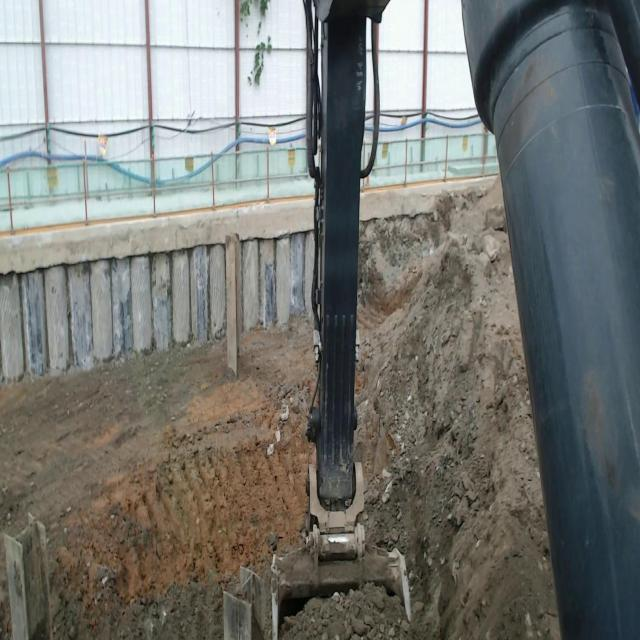white-sand: (281, 181, 559, 640), (0, 321, 312, 640)
